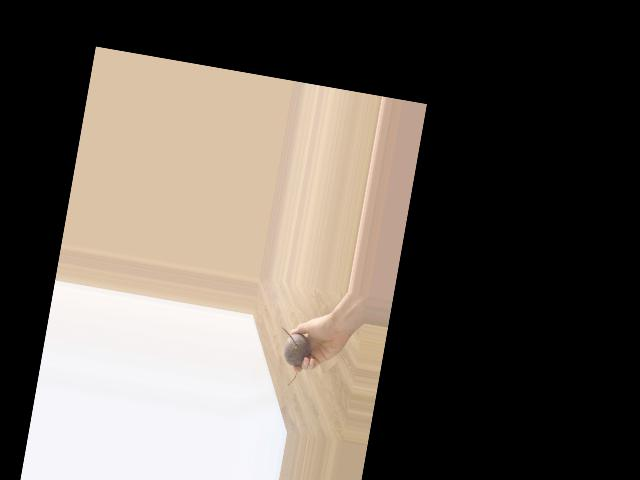beet: (272, 327, 313, 388)
